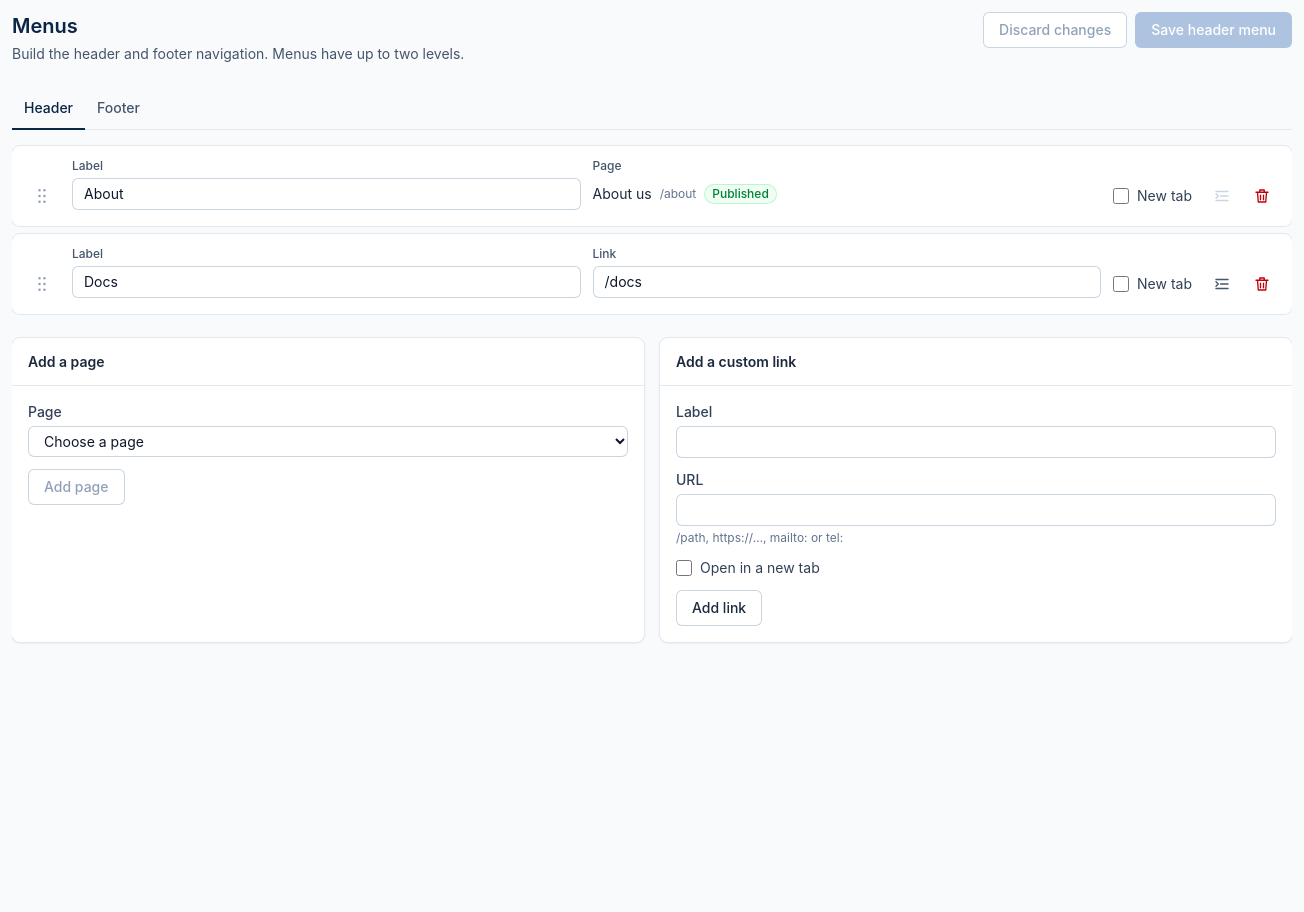
Test: menus page › shows a server error beside the offending child item
Click the button named "Indent Docs" at (1222, 284), box [1204,266,1240,302]
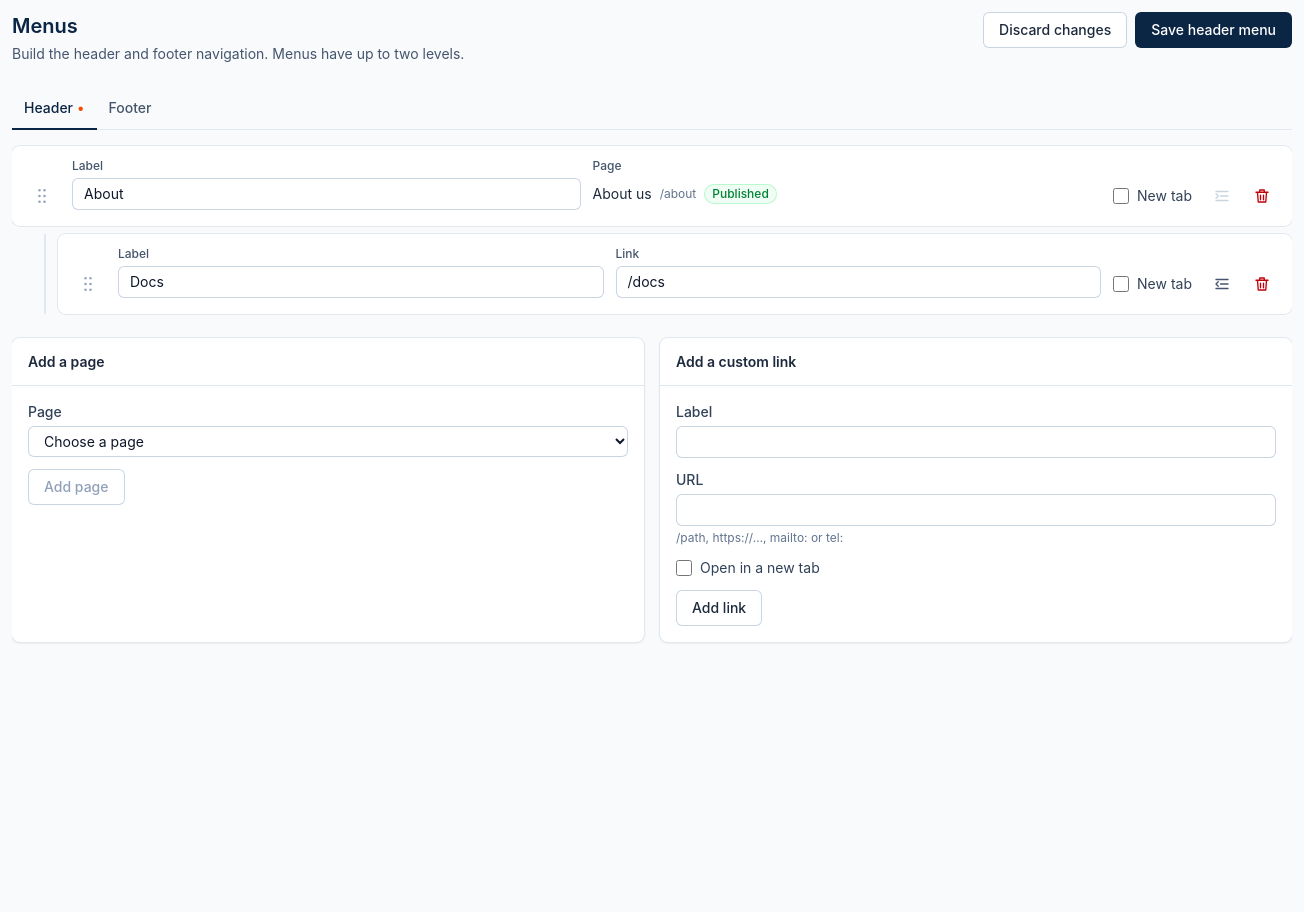
Click the button "Save header menu" at (1214, 30), box [1135,12,1292,48]
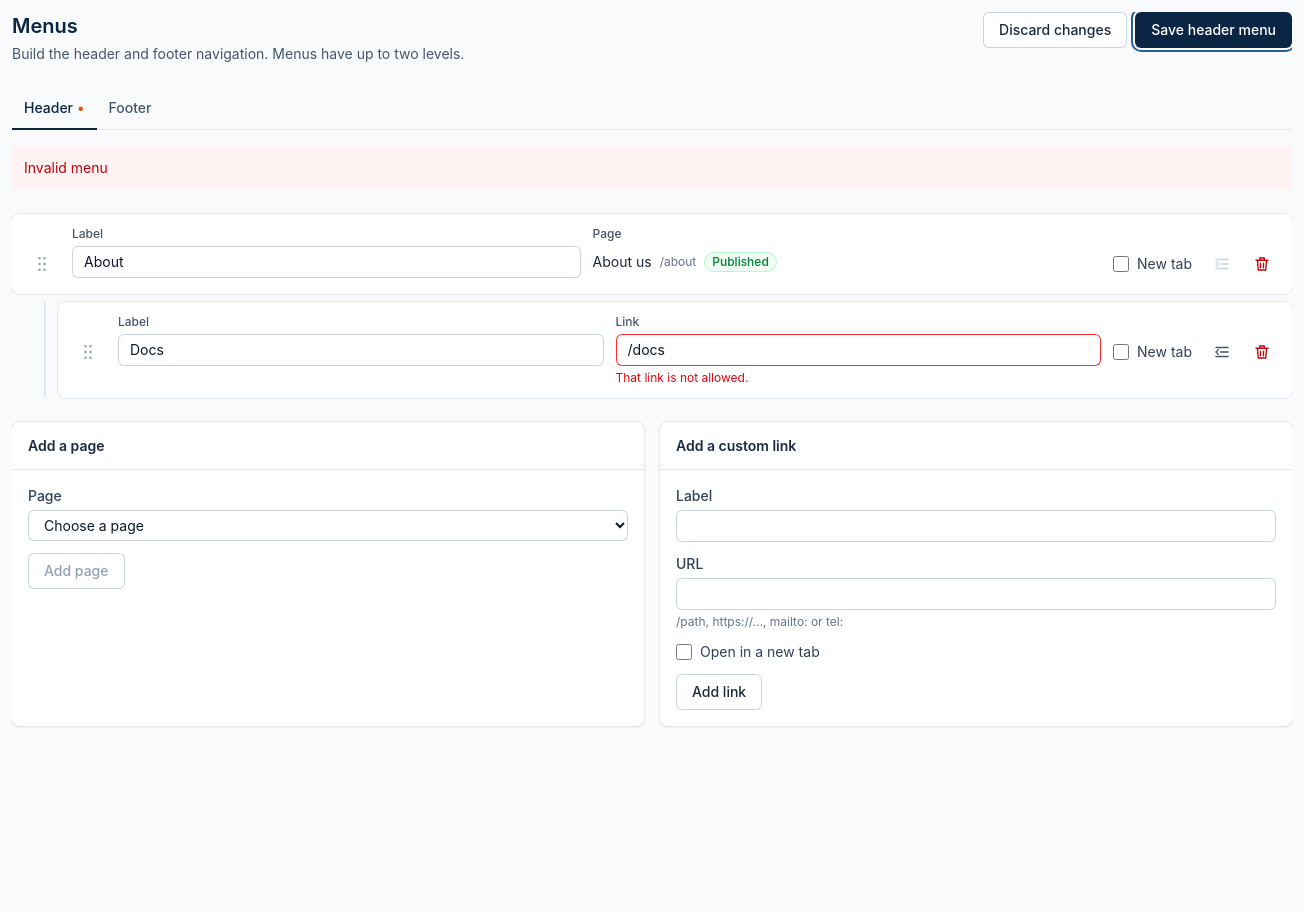
Now the text "That link is not allowed." is shown, box [616,370,748,385]
